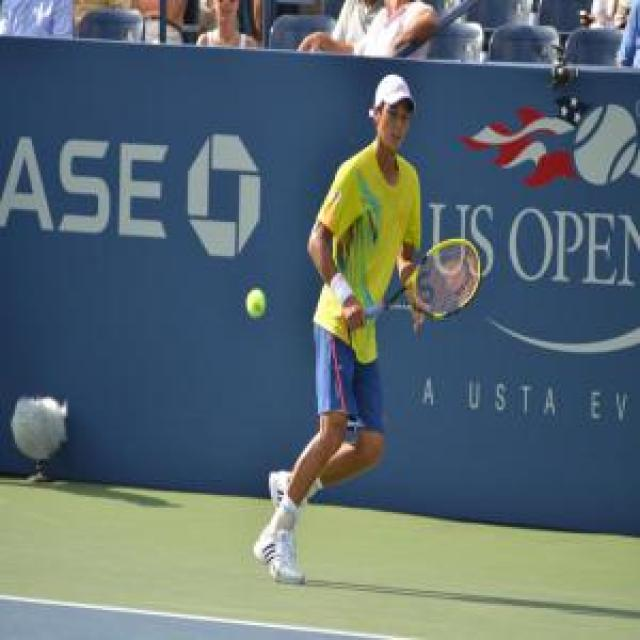ball: (243, 286, 270, 319)
